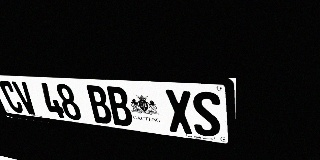4: (37, 82, 66, 119)
8: (54, 83, 83, 121)
B: (84, 85, 114, 125), (105, 86, 134, 127)
C: (0, 80, 25, 114)
S: (191, 91, 221, 138)
V: (11, 81, 39, 115)
X: (164, 89, 194, 135)
